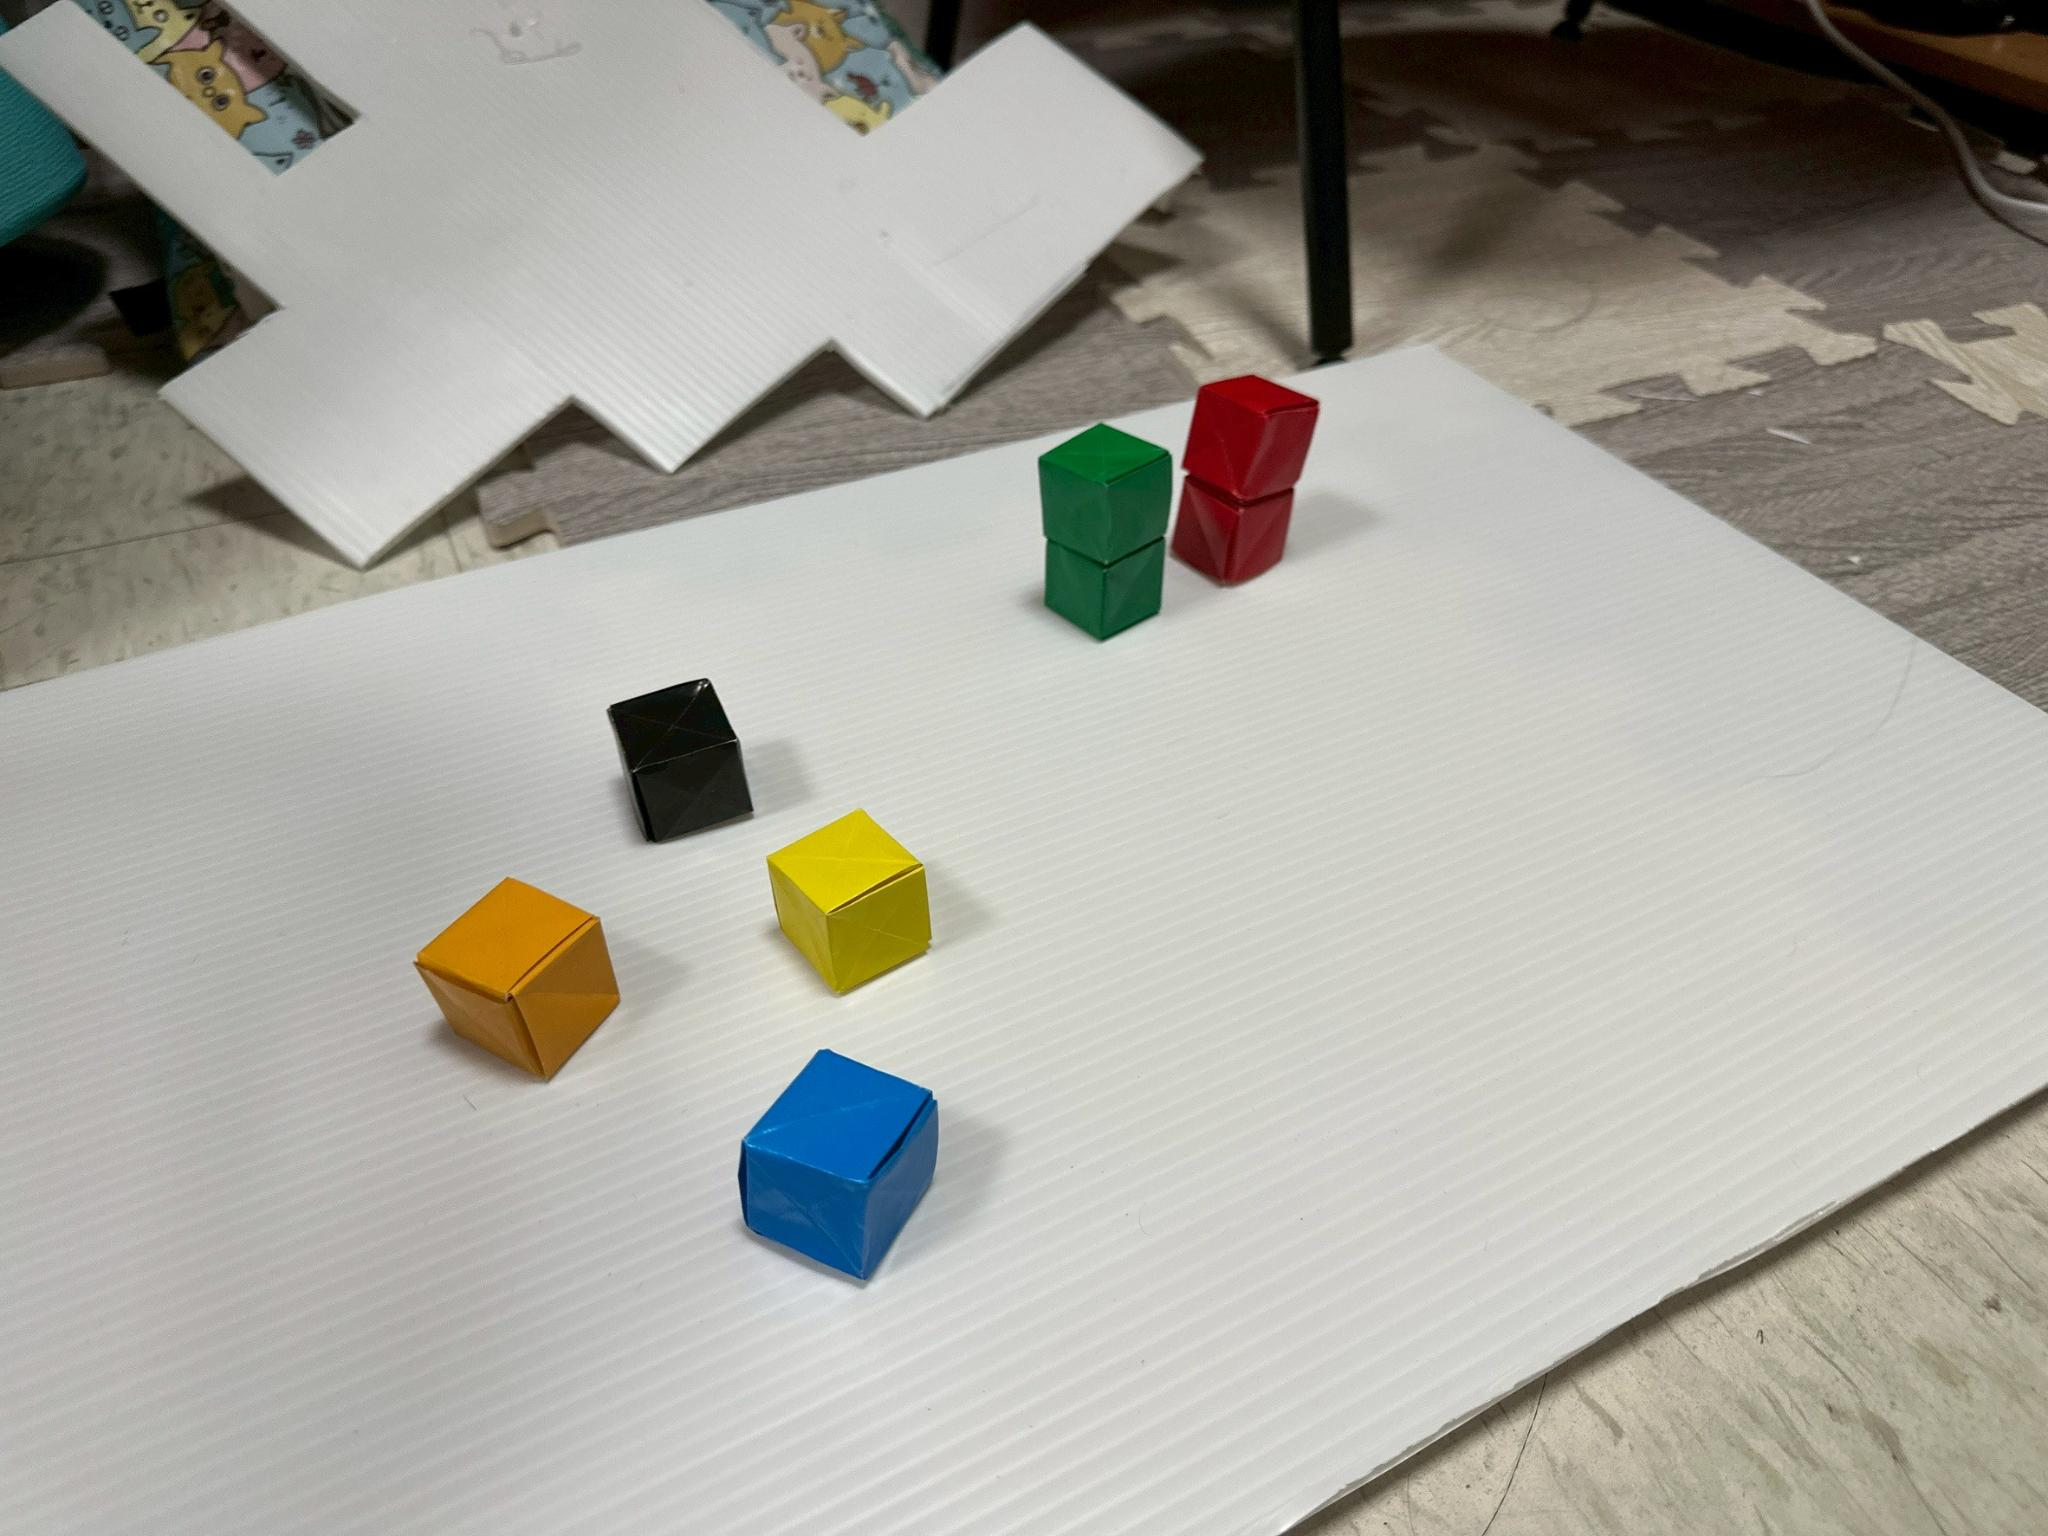cube: (739, 1050, 937, 1281), (418, 878, 619, 1079), (768, 810, 930, 992), (608, 681, 751, 841), (1039, 424, 1172, 565), (1184, 374, 1317, 500), (1171, 476, 1293, 584), (1043, 536, 1164, 639)
